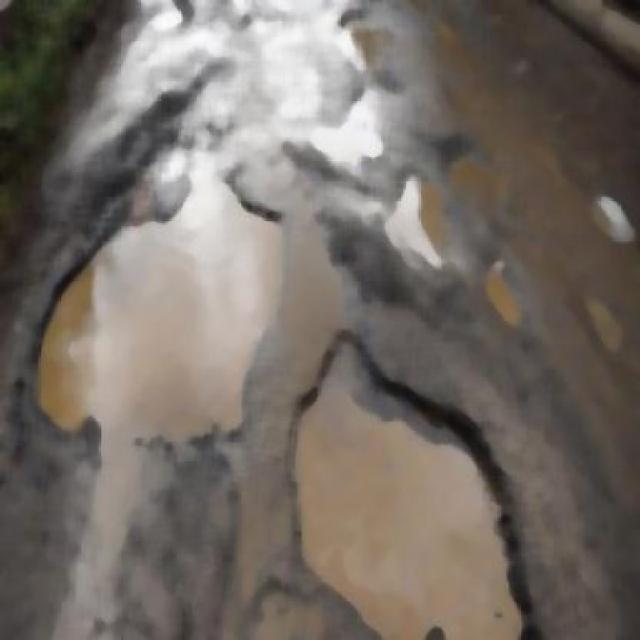Pothole: (30, 164, 282, 498), (291, 328, 509, 638)
